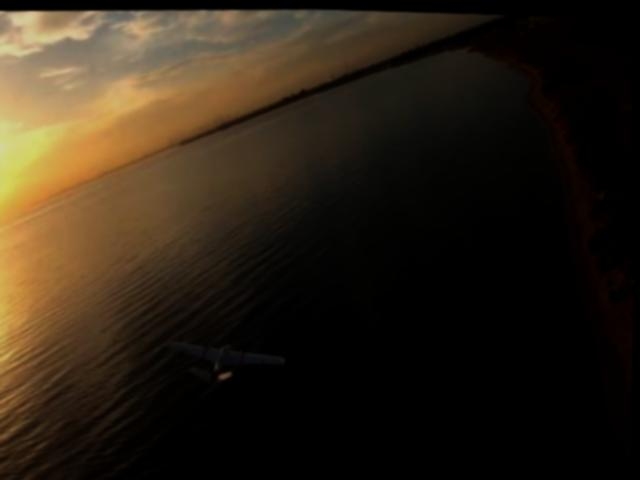uav: (161, 327, 291, 393)
